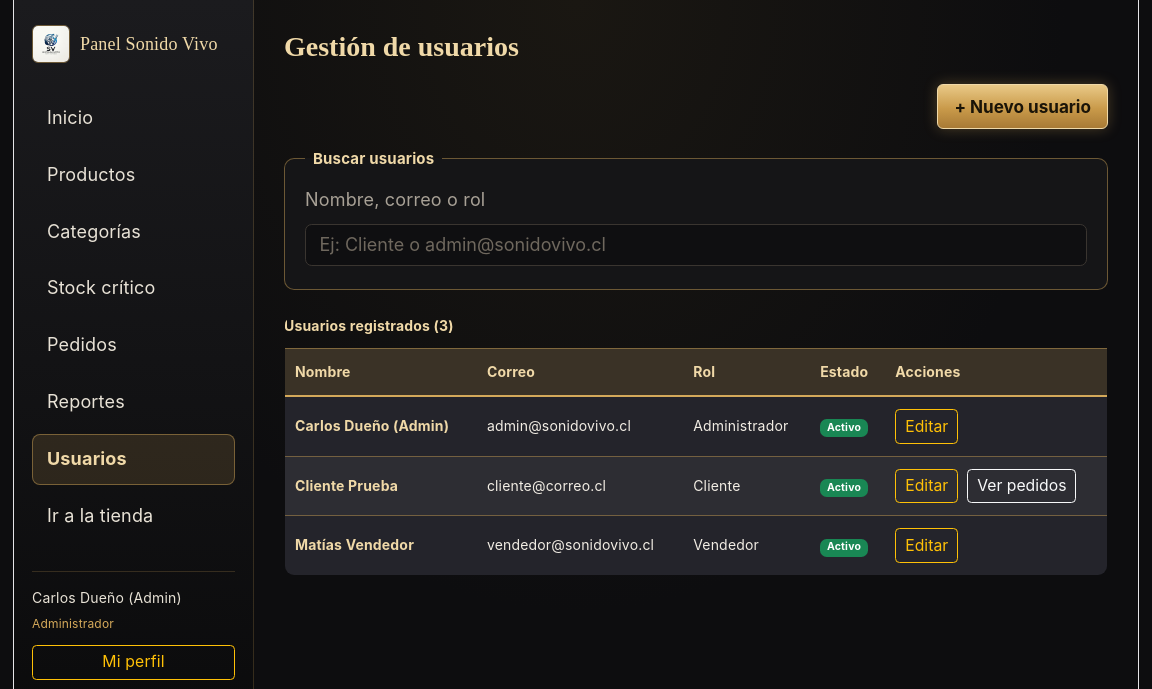
Scenario: Página AdminUsuarios › crea un usuario nuevo (POST /usuarios)
Click the button "+ Nuevo usuario". click: (1023, 106)
box: [937,84,1108,129]
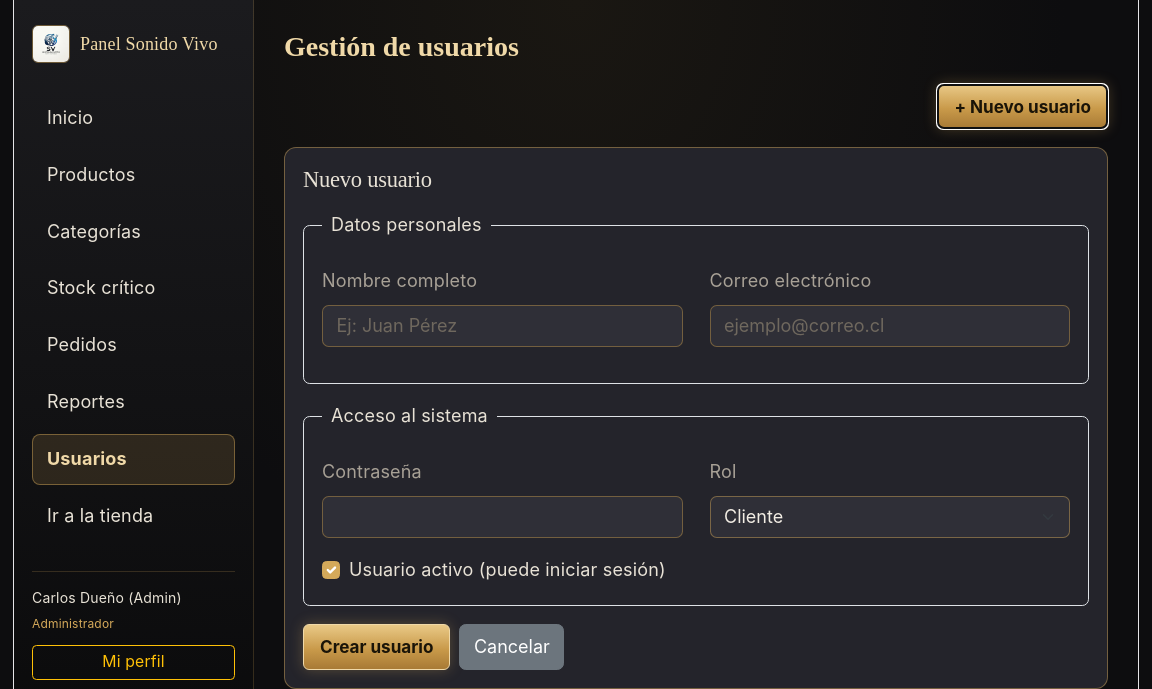
Type "Ana Prueba" into the field labelled "Nombre completo". click: (502, 326)
box: [322,304,682,347]
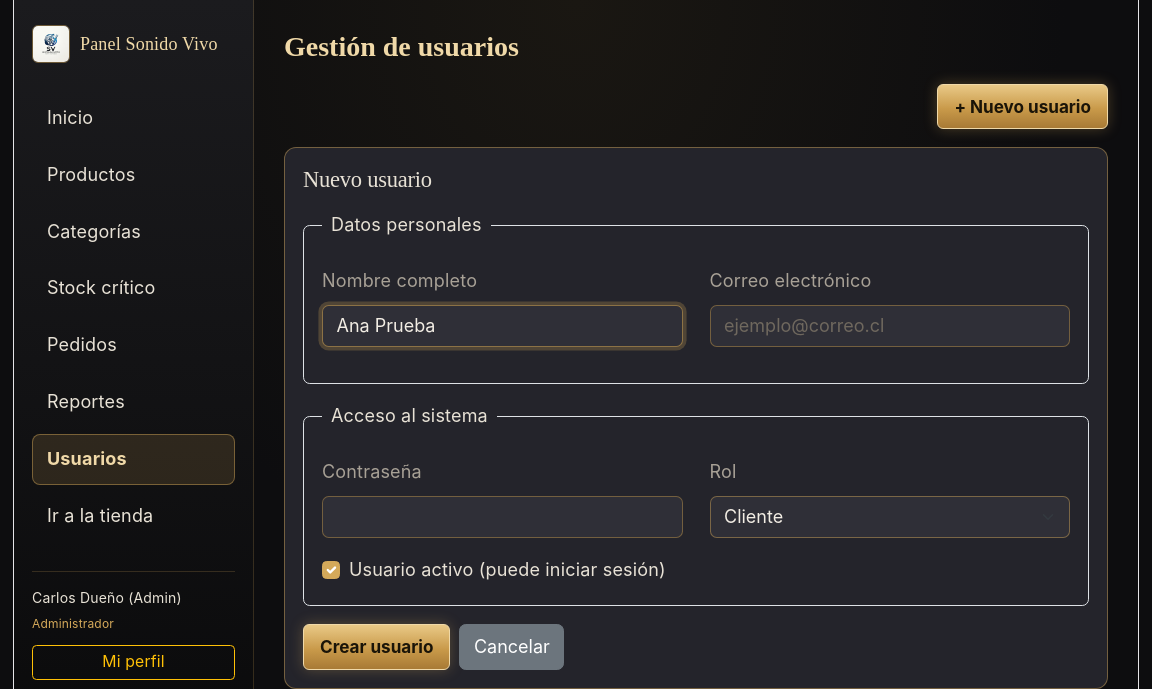
Type "ana@correo.cl" into the field labelled "Correo electrónico". click: (890, 326)
box: [710,304,1070,347]
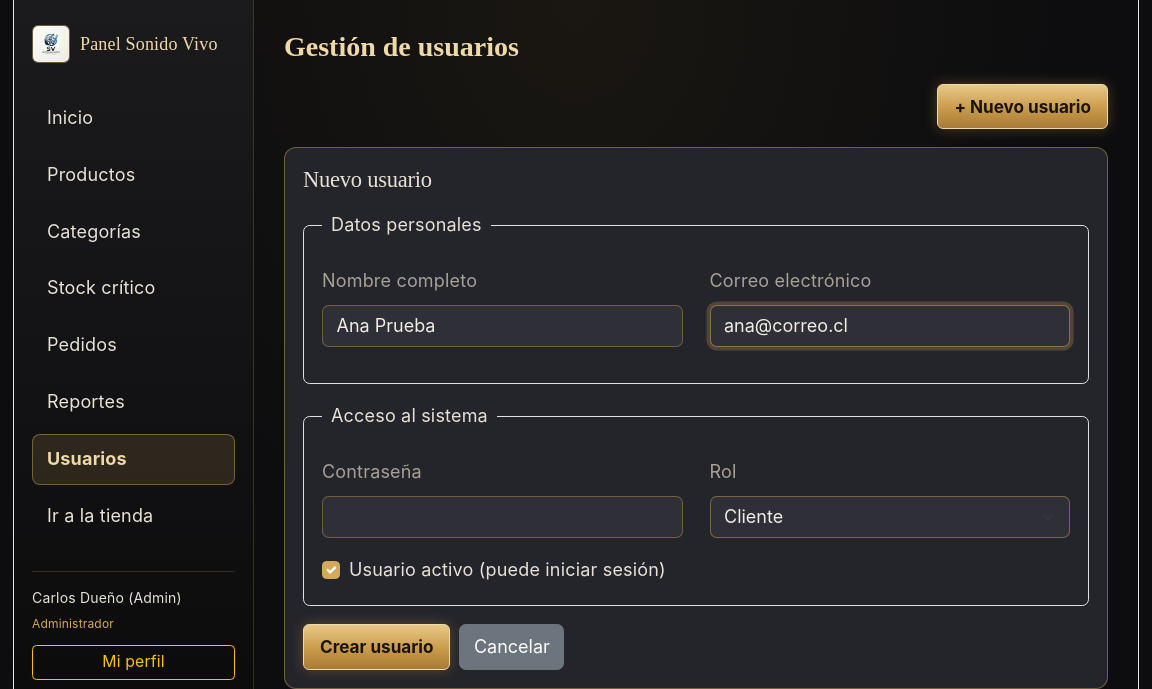
Type "clave123" into the password field labelled "Contraseña". click: (502, 517)
box: [322,496,682,538]
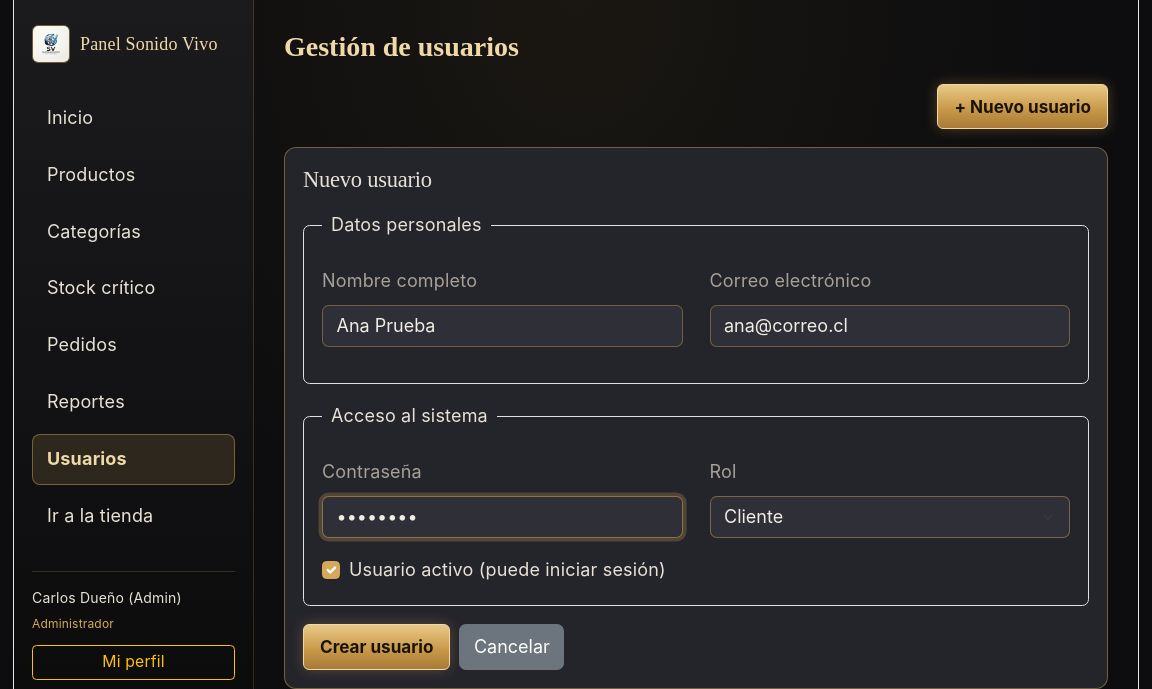
Click the button "Crear usuario". click: (377, 647)
box: [303,624,450,670]
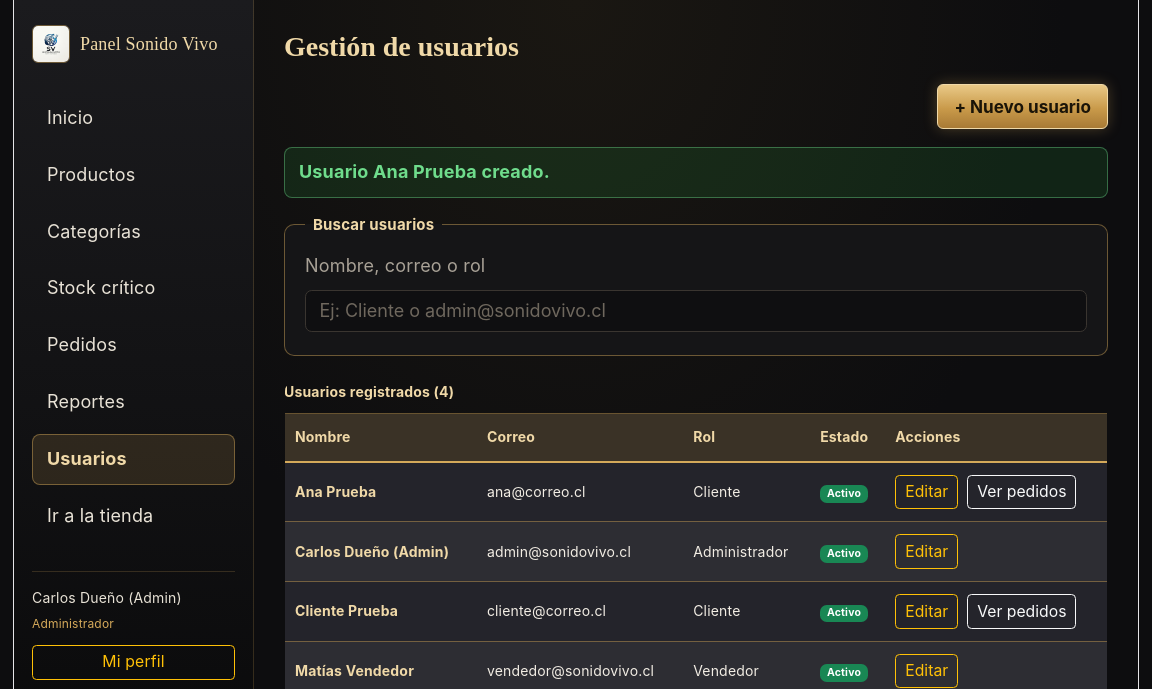
Now the text "Usuario Ana Prueba creado." is shown, box [284,147,1108,198]
